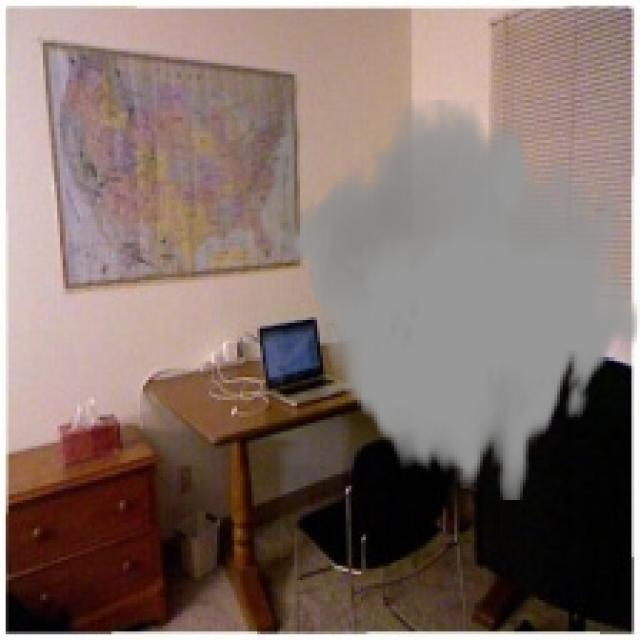smoke: (292, 100, 637, 503)
